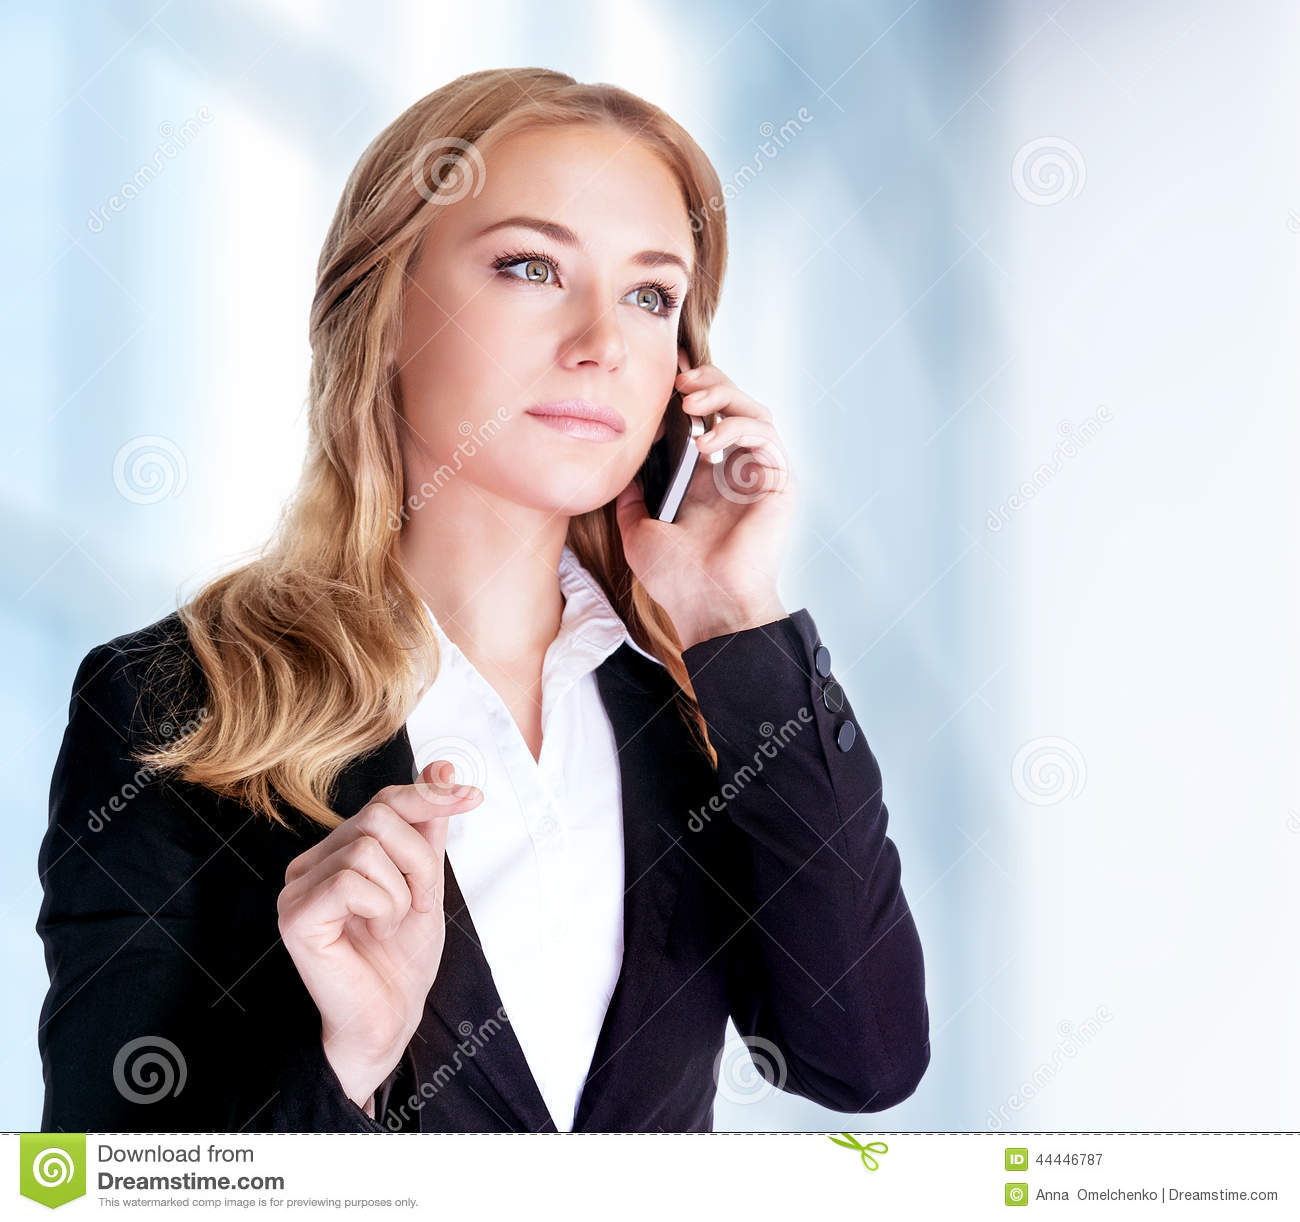phone: (625, 350, 795, 551)
talk: (450, 215, 808, 617)
